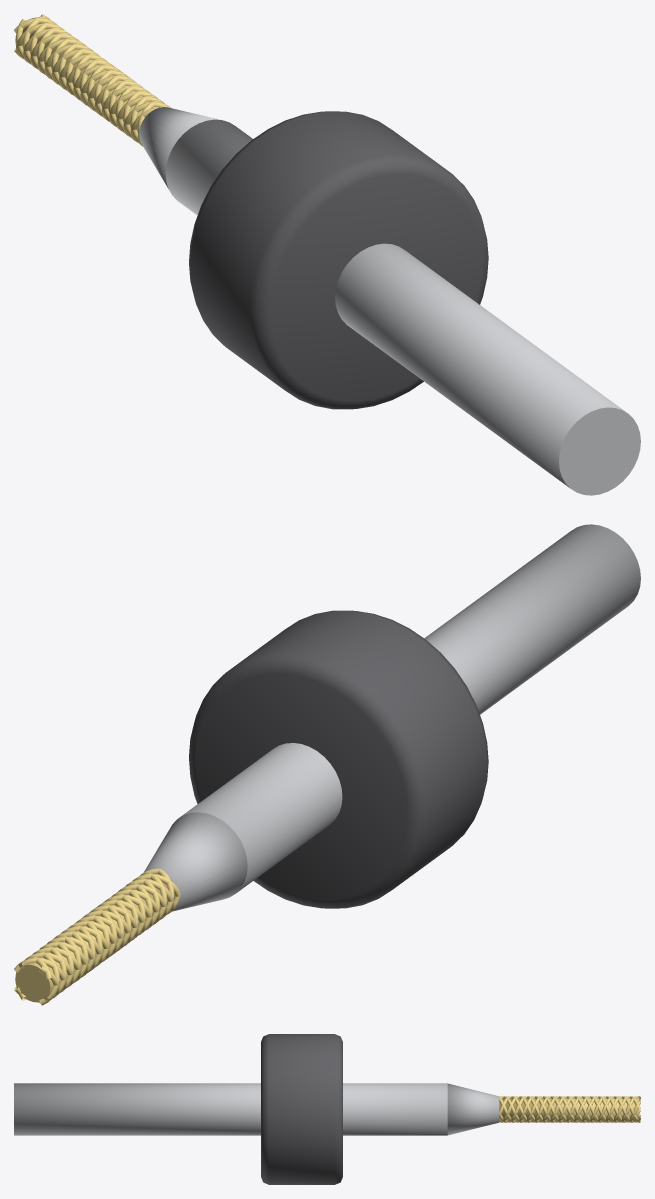
The model's file is corn18_1p6.glb.
3 renders of one model, top to bottom at view 1: azimuth 30°, elevation 25°; view 2: azimuth 150°, elevation 25°; view 3: azimuth 270°, elevation 25°, orthographic. The views are drawn at different scales.
Visible parts, largest first — view 1: Cylinder.002, Cylinder.001, Cone, flute.002, flute.007, flute.005, flute, flute.003, flute.006, flute.004, flute.001; view 2: Cylinder.002, Cylinder.001, Cone, Cylinder, flute.002, flute.005, flute.007, flute, flute.004, flute.003, flute.001, flute.006; view 3: Cylinder.001, Cylinder.002, Cone, Cylinder, flute.003, flute, flute.006, flute.005, flute.001, flute.004, flute.002, flute.007.
Boxes of the visible parts, x1,y1,x2,y2 form: Cylinder.002: (189, 111, 488, 409); Cylinder.001: (165, 119, 640, 495); Cone: (139, 107, 220, 188); flute.002: (16, 23, 159, 140); flute.007: (16, 19, 156, 146); flute.005: (23, 16, 164, 133); flute: (14, 18, 170, 135); flute.003: (30, 21, 170, 137); flute.006: (30, 14, 164, 130); flute.004: (23, 28, 158, 146); flute.001: (14, 27, 149, 143); Cylinder.002: (189, 610, 488, 908); Cylinder.001: (179, 524, 640, 892); Cone: (143, 812, 247, 911); Cylinder: (15, 873, 175, 1002); flute.002: (33, 869, 174, 1005); flute.005: (14, 873, 180, 991); flute.007: (39, 879, 174, 996); flute: (26, 872, 167, 988); flute.004: (14, 882, 180, 998); flute.003: (16, 868, 160, 1000); flute.001: (32, 884, 167, 1002); flute.006: (16, 877, 160, 992); Cylinder.001: (14, 1083, 447, 1135); Cylinder.002: (261, 1034, 342, 1184); Cone: (447, 1083, 499, 1135); Cylinder: (499, 1098, 639, 1120); flute.003: (499, 1096, 640, 1122); flute: (499, 1096, 640, 1122); flute.006: (499, 1096, 640, 1122); flute.005: (503, 1096, 640, 1122); flute.001: (499, 1096, 640, 1122); flute.004: (507, 1096, 640, 1122); flute.002: (499, 1096, 640, 1122); flute.007: (511, 1096, 640, 1122).
Size of the model in its own units: 0.00917 by 0.00917 by 0.0381.
